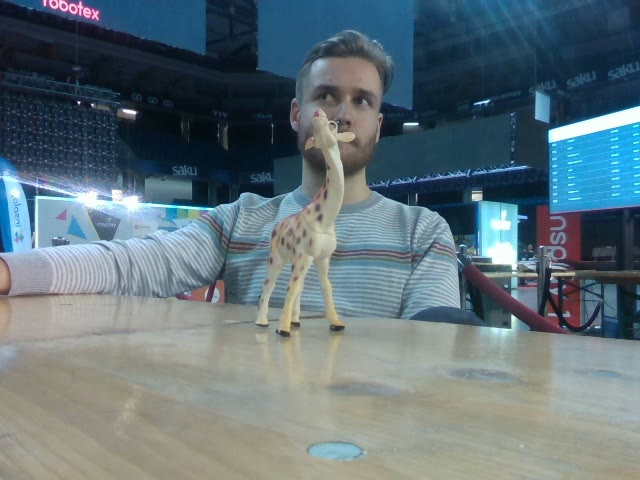toy: (252, 105, 355, 338)
